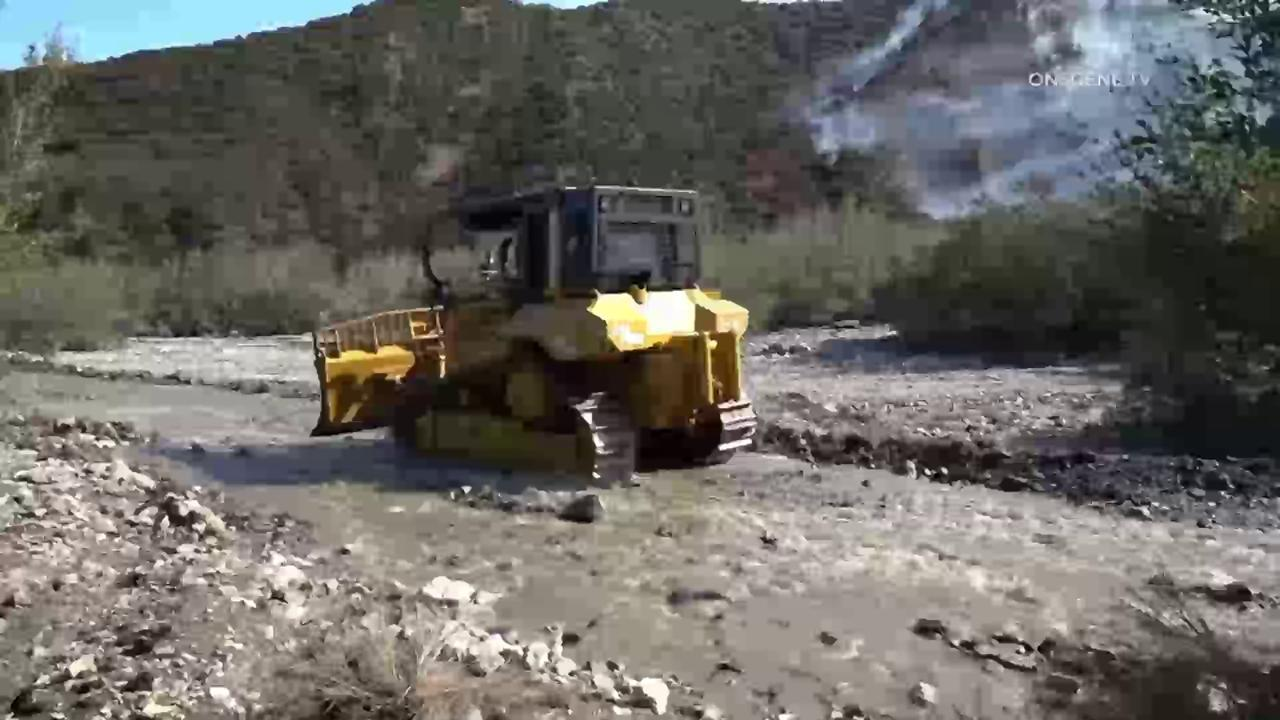smoke: (778, 1, 1280, 222)
